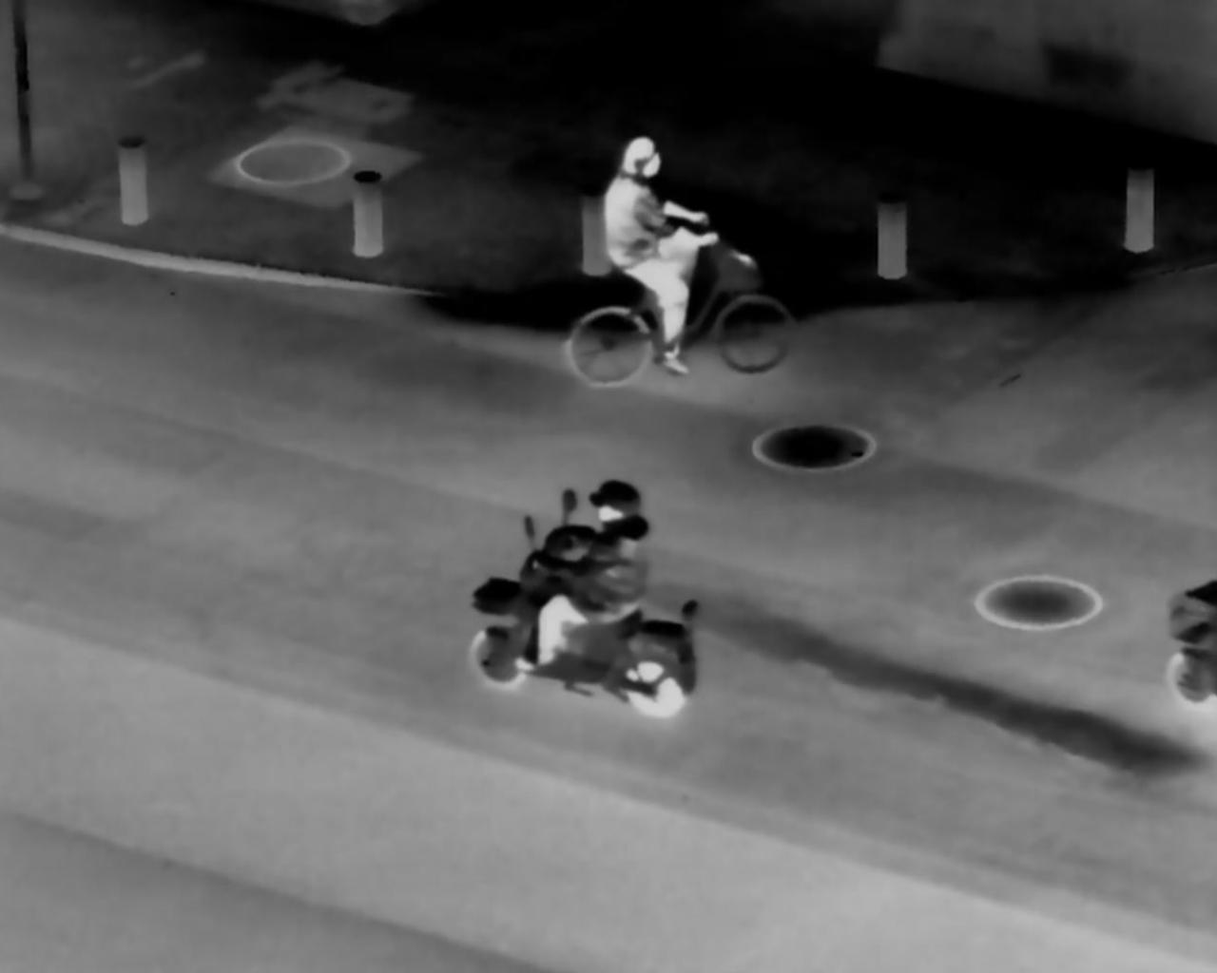person: (599, 130, 705, 376), (534, 473, 656, 681)
